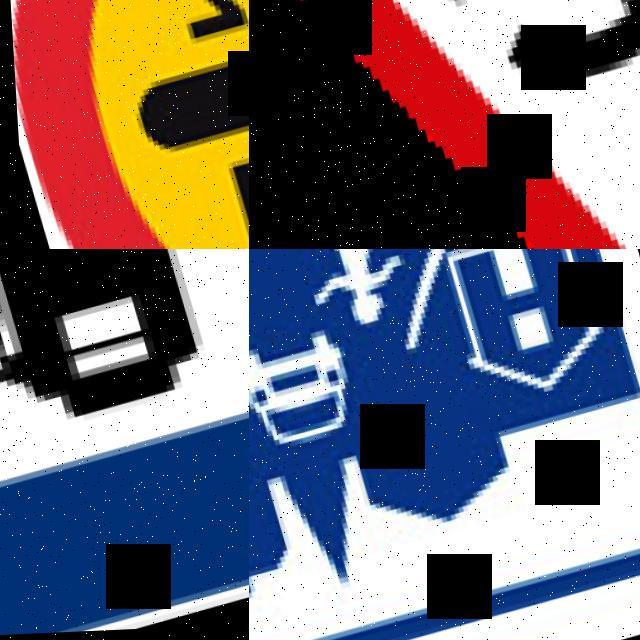117: (0, 0, 249, 249)
52: (249, 249, 640, 640)
Filling station: (0, 249, 249, 640)
Roundabout: (249, 0, 640, 249)
